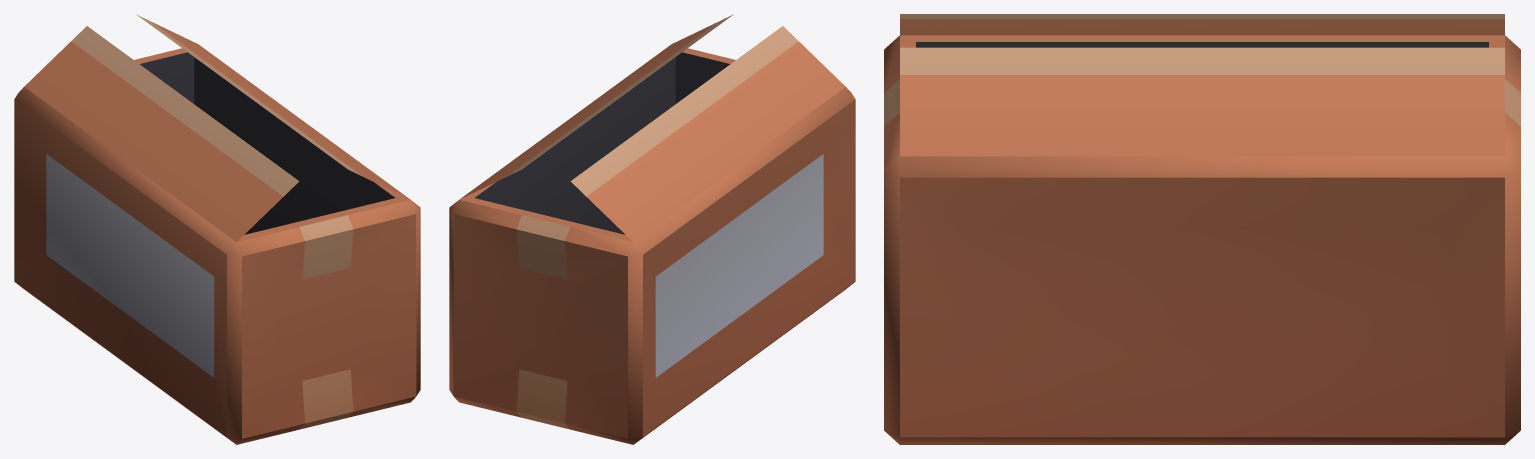
The model's file is box-large-open.glb.
The picture shows the model from 3 angles, left to right: view 1: azimuth 30°, elevation 25°; view 2: azimuth 150°, elevation 25°; view 3: azimuth 270°, elevation 25°; orthographic projection. The views are drawn at different scales.
Parts seen in each view (by area): view 1: box-large-open; view 2: box-large-open; view 3: box-large-open.
Boxes of the visible parts, <box> form: box-large-open: <box>14,14,420,444</box>; box-large-open: <box>449,14,855,444</box>; box-large-open: <box>884,14,1520,444</box>.
Bounding box in the file's own units: 0.25 × 0.3063 × 0.5.
